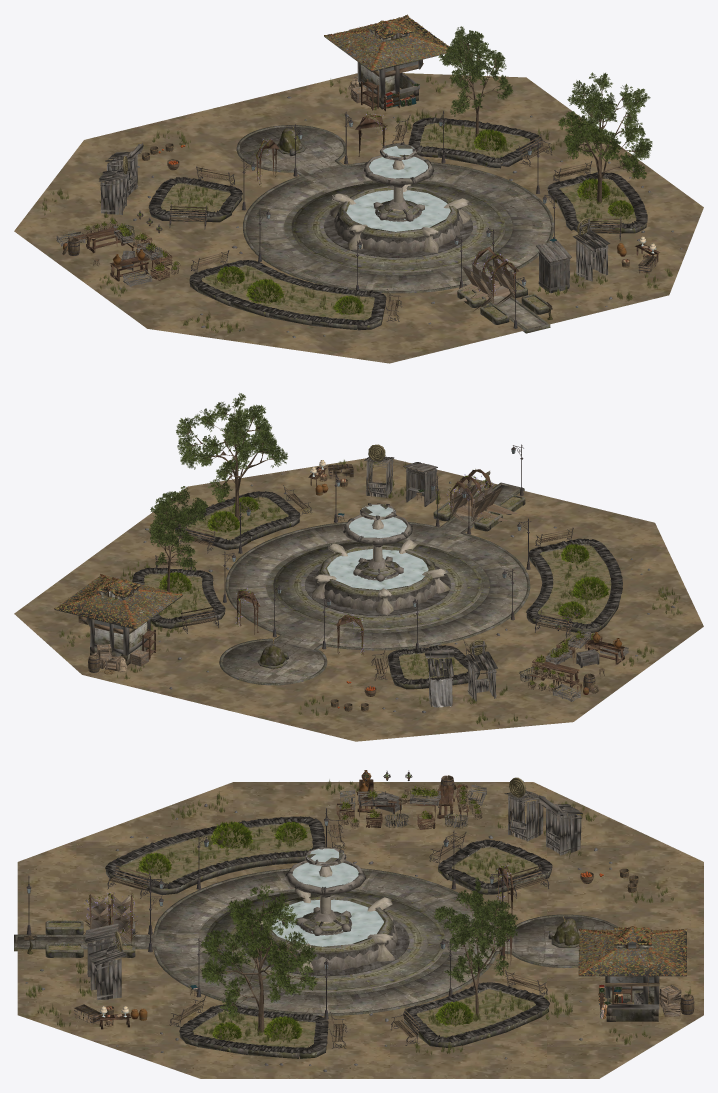
File: niwa_diorama.glb
The picture shows the model from 3 angles, top to bottom: view 1: azimuth 30°, elevation 25°; view 2: azimuth 150°, elevation 25°; view 3: azimuth 270°, elevation 25°; orthographic projection. The views are drawn at different scales.
Visible parts, largest first — view 1: KB3D_ENC_BldgSmUpperTownSquare_A_Ground, KB3D_ENC_BldgSmUpperTownSquare_A_Floor, KB3D_ENC_BldgSmUpperTownSquare_A_Fountain, KB3D_ENC_BldgSmUpperTownSquare_A_PlanterE, KB3D_ENC_BldgSmUpperTownSquare_A_TreeA, KB3D_ENC_BldgSmUpperTownSquare_A_Building, KB3D_ENC_BldgSmUpperTownSquare_A_PlanterC, KB3D_ENC_BldgSmUpperTownSquare_A_PlanterD, KB3D_ENC_BldgSmUpperTownSquare_A_TreeB, KB3D_ENC_BldgSmUpperTownSquare_A_PlanterB, KB3D_ENC_BldgSmUpperTownSquare_A_GrassA, KB3D_ENC_BldgSmUpperTownSquare_A_ShackA (+12 smaller); view 2: KB3D_ENC_BldgSmUpperTownSquare_A_Ground, KB3D_ENC_BldgSmUpperTownSquare_A_Floor, KB3D_ENC_BldgSmUpperTownSquare_A_Fountain, KB3D_ENC_BldgSmUpperTownSquare_A_PlanterE, KB3D_ENC_BldgSmUpperTownSquare_A_TreeA, KB3D_ENC_BldgSmUpperTownSquare_A_Building, KB3D_ENC_BldgSmUpperTownSquare_A_PlanterD, KB3D_ENC_BldgSmUpperTownSquare_A_TreeB, KB3D_ENC_BldgSmUpperTownSquare_A_PlanterC, KB3D_ENC_BldgSmUpperTownSquare_A_PlanterB, KB3D_ENC_BldgSmUpperTownSquare_A_GrassA, KB3D_ENC_BldgSmUpperTownSquare_A_ShackD (+11 smaller); view 3: KB3D_ENC_BldgSmUpperTownSquare_A_Ground, KB3D_ENC_BldgSmUpperTownSquare_A_Floor, KB3D_ENC_BldgSmUpperTownSquare_A_Fountain, KB3D_ENC_BldgSmUpperTownSquare_A_TreeA, KB3D_ENC_BldgSmUpperTownSquare_A_PlanterE, KB3D_ENC_BldgSmUpperTownSquare_A_Building, KB3D_ENC_BldgSmUpperTownSquare_A_PlanterC, KB3D_ENC_BldgSmUpperTownSquare_A_PlanterD, KB3D_ENC_BldgSmUpperTownSquare_A_TreeB, KB3D_ENC_BldgSmUpperTownSquare_A_PlanterB, KB3D_ENC_BldgSmUpperTownSquare_A_GrassA, KB3D_ENC_BldgSmUpperTownSquare_A_ShackB (+21 smaller).
Boxes of the visible parts, x1=… form: KB3D_ENC_BldgSmUpperTownSquare_A_Ground: x1=14, y1=73, x2=703, y2=363; KB3D_ENC_BldgSmUpperTownSquare_A_Floor: x1=236, y1=125, x2=553, y2=333; KB3D_ENC_BldgSmUpperTownSquare_A_Fountain: x1=329, y1=142, x2=471, y2=253; KB3D_ENC_BldgSmUpperTownSquare_A_PlanterE: x1=189, y1=260, x2=386, y2=330; KB3D_ENC_BldgSmUpperTownSquare_A_TreeA: x1=558, y1=72, x2=652, y2=203; KB3D_ENC_BldgSmUpperTownSquare_A_Building: x1=324, y1=14, x2=449, y2=109; KB3D_ENC_BldgSmUpperTownSquare_A_PlanterC: x1=408, y1=117, x2=541, y2=168; KB3D_ENC_BldgSmUpperTownSquare_A_PlanterD: x1=547, y1=172, x2=647, y2=233; KB3D_ENC_BldgSmUpperTownSquare_A_TreeB: x1=438, y1=26, x2=513, y2=138; KB3D_ENC_BldgSmUpperTownSquare_A_PlanterB: x1=148, y1=177, x2=242, y2=222; KB3D_ENC_BldgSmUpperTownSquare_A_GrassA: x1=42, y1=74, x2=672, y2=333; KB3D_ENC_BldgSmUpperTownSquare_A_ShackA: x1=573, y1=218, x2=610, y2=281; KB3D_ENC_BldgSmUpperTownSquare_A_Ground: x1=14, y1=458, x2=703, y2=741; KB3D_ENC_BldgSmUpperTownSquare_A_Floor: x1=219, y1=482, x2=530, y2=685; KB3D_ENC_BldgSmUpperTownSquare_A_Fountain: x1=312, y1=503, x2=449, y2=615; KB3D_ENC_BldgSmUpperTownSquare_A_PlanterE: x1=526, y1=538, x2=622, y2=633; KB3D_ENC_BldgSmUpperTownSquare_A_TreeA: x1=176, y1=393, x2=288, y2=520; KB3D_ENC_BldgSmUpperTownSquare_A_Building: x1=54, y1=574, x2=182, y2=665; KB3D_ENC_BldgSmUpperTownSquare_A_PlanterD: x1=175, y1=491, x2=300, y2=549; KB3D_ENC_BldgSmUpperTownSquare_A_TreeB: x1=148, y1=486, x2=208, y2=591; KB3D_ENC_BldgSmUpperTownSquare_A_PlanterC: x1=132, y1=567, x2=225, y2=628; KB3D_ENC_BldgSmUpperTownSquare_A_PlanterB: x1=387, y1=645, x2=479, y2=689; KB3D_ENC_BldgSmUpperTownSquare_A_GrassA: x1=59, y1=459, x2=682, y2=726; KB3D_ENC_BldgSmUpperTownSquare_A_ShackD: x1=425, y1=649, x2=454, y2=707; KB3D_ENC_BldgSmUpperTownSquare_A_Ground: x1=17, y1=782, x2=703, y2=1078; KB3D_ENC_BldgSmUpperTownSquare_A_Floor: x1=14, y1=868, x2=618, y2=1015; KB3D_ENC_BldgSmUpperTownSquare_A_Fountain: x1=247, y1=846, x2=398, y2=973; KB3D_ENC_BldgSmUpperTownSquare_A_TreeA: x1=200, y1=884, x2=317, y2=1032; KB3D_ENC_BldgSmUpperTownSquare_A_PlanterE: x1=105, y1=816, x2=325, y2=895; KB3D_ENC_BldgSmUpperTownSquare_A_Building: x1=578, y1=926, x2=687, y2=1021; KB3D_ENC_BldgSmUpperTownSquare_A_PlanterC: x1=404, y1=982, x2=549, y2=1047; KB3D_ENC_BldgSmUpperTownSquare_A_PlanterD: x1=179, y1=1004, x2=328, y2=1058; KB3D_ENC_BldgSmUpperTownSquare_A_TreeB: x1=434, y1=877, x2=518, y2=1016; KB3D_ENC_BldgSmUpperTownSquare_A_PlanterB: x1=438, y1=839, x2=552, y2=894; KB3D_ENC_BldgSmUpperTownSquare_A_GrassA: x1=25, y1=779, x2=692, y2=1054; KB3D_ENC_BldgSmUpperTownSquare_A_ShackB: x1=504, y1=777, x2=545, y2=841.
Size of the model in its own units: 35.83 by 8.56 by 35.18.
Materials: 57 (57 with a texture image).
